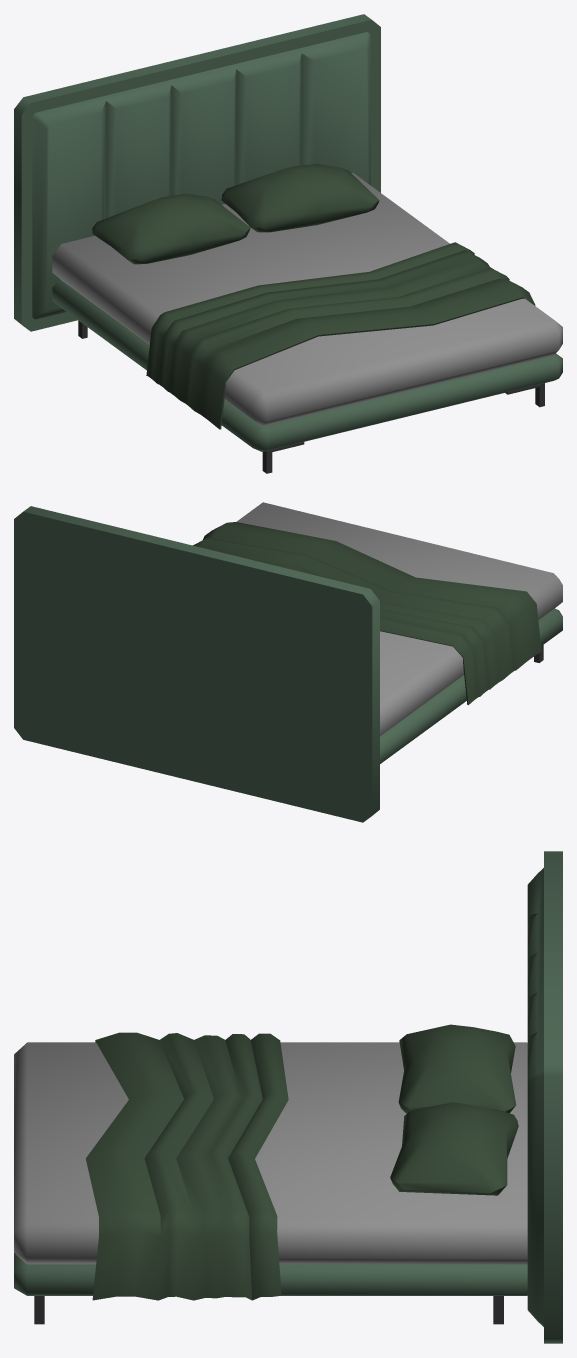
Rendered from bed013.glb.
The picture shows the model from 3 angles, top to bottom: view 1: azimuth 30°, elevation 25°; view 2: azimuth 150°, elevation 25°; view 3: azimuth 270°, elevation 25°; orthographic projection. The views are drawn at different scales.
Visible parts, largest first — view 1: bed.013; view 2: bed.013; view 3: bed.013.
Boxes of the visible parts, x1,y1,x2,y2 form: bed.013: (14, 14, 562, 473); bed.013: (14, 502, 562, 822); bed.013: (14, 851, 562, 1343).
Size of the model in its own units: 2.08 by 1.27 by 2.21.
Materials: 1 (1 with a texture image).
